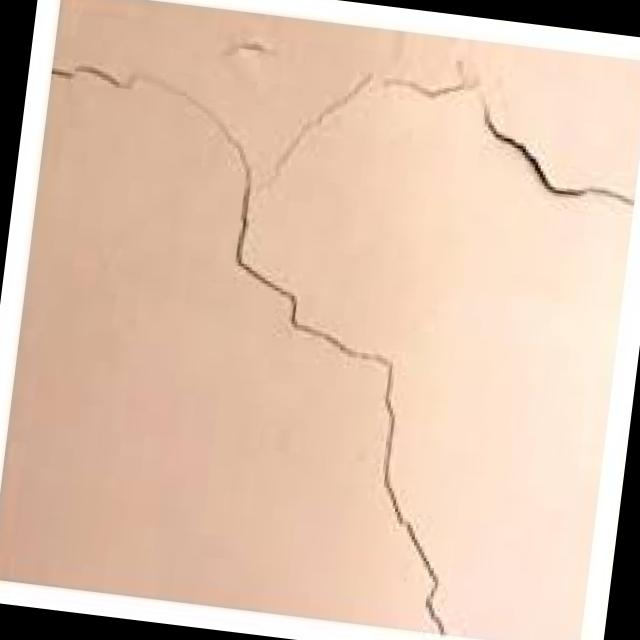crack: (193, 186, 500, 630), (268, 31, 488, 202), (44, 52, 270, 185), (480, 96, 640, 205)
